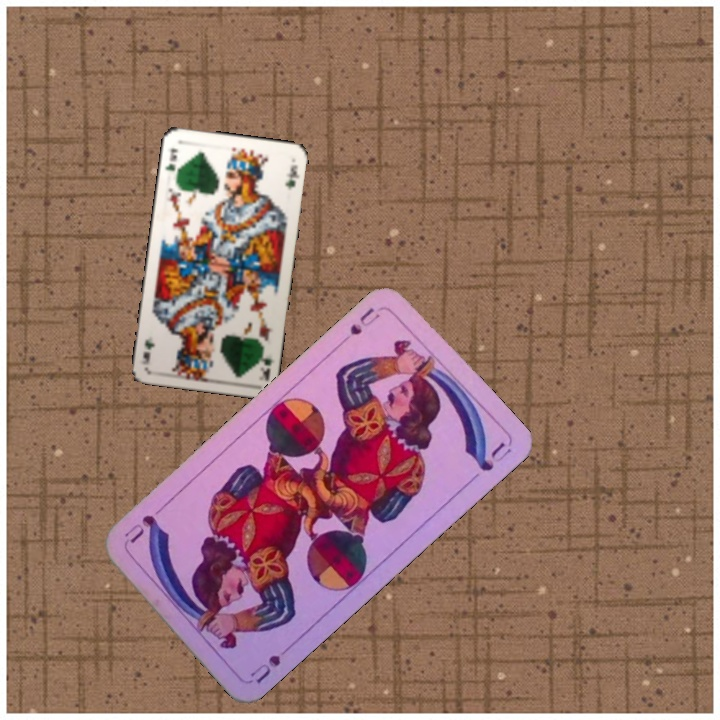GK: (256, 342, 275, 383), (161, 145, 180, 174)
SU: (246, 639, 297, 686), (345, 303, 382, 338)
